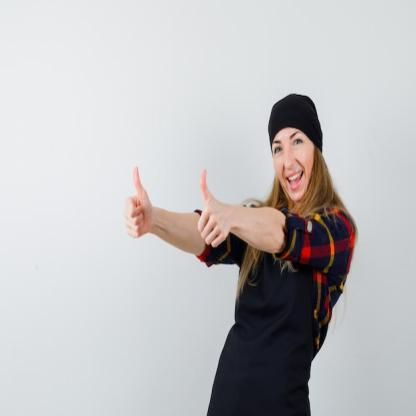thumb_up: (195, 165, 232, 248), (119, 164, 157, 242)
